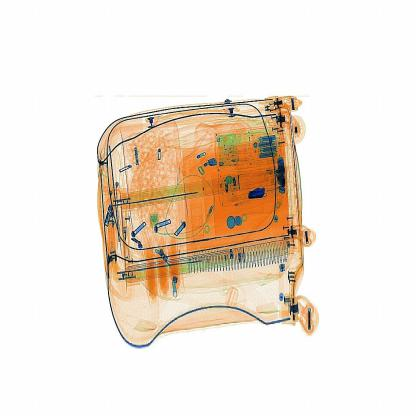knife: (245, 182, 268, 203)
